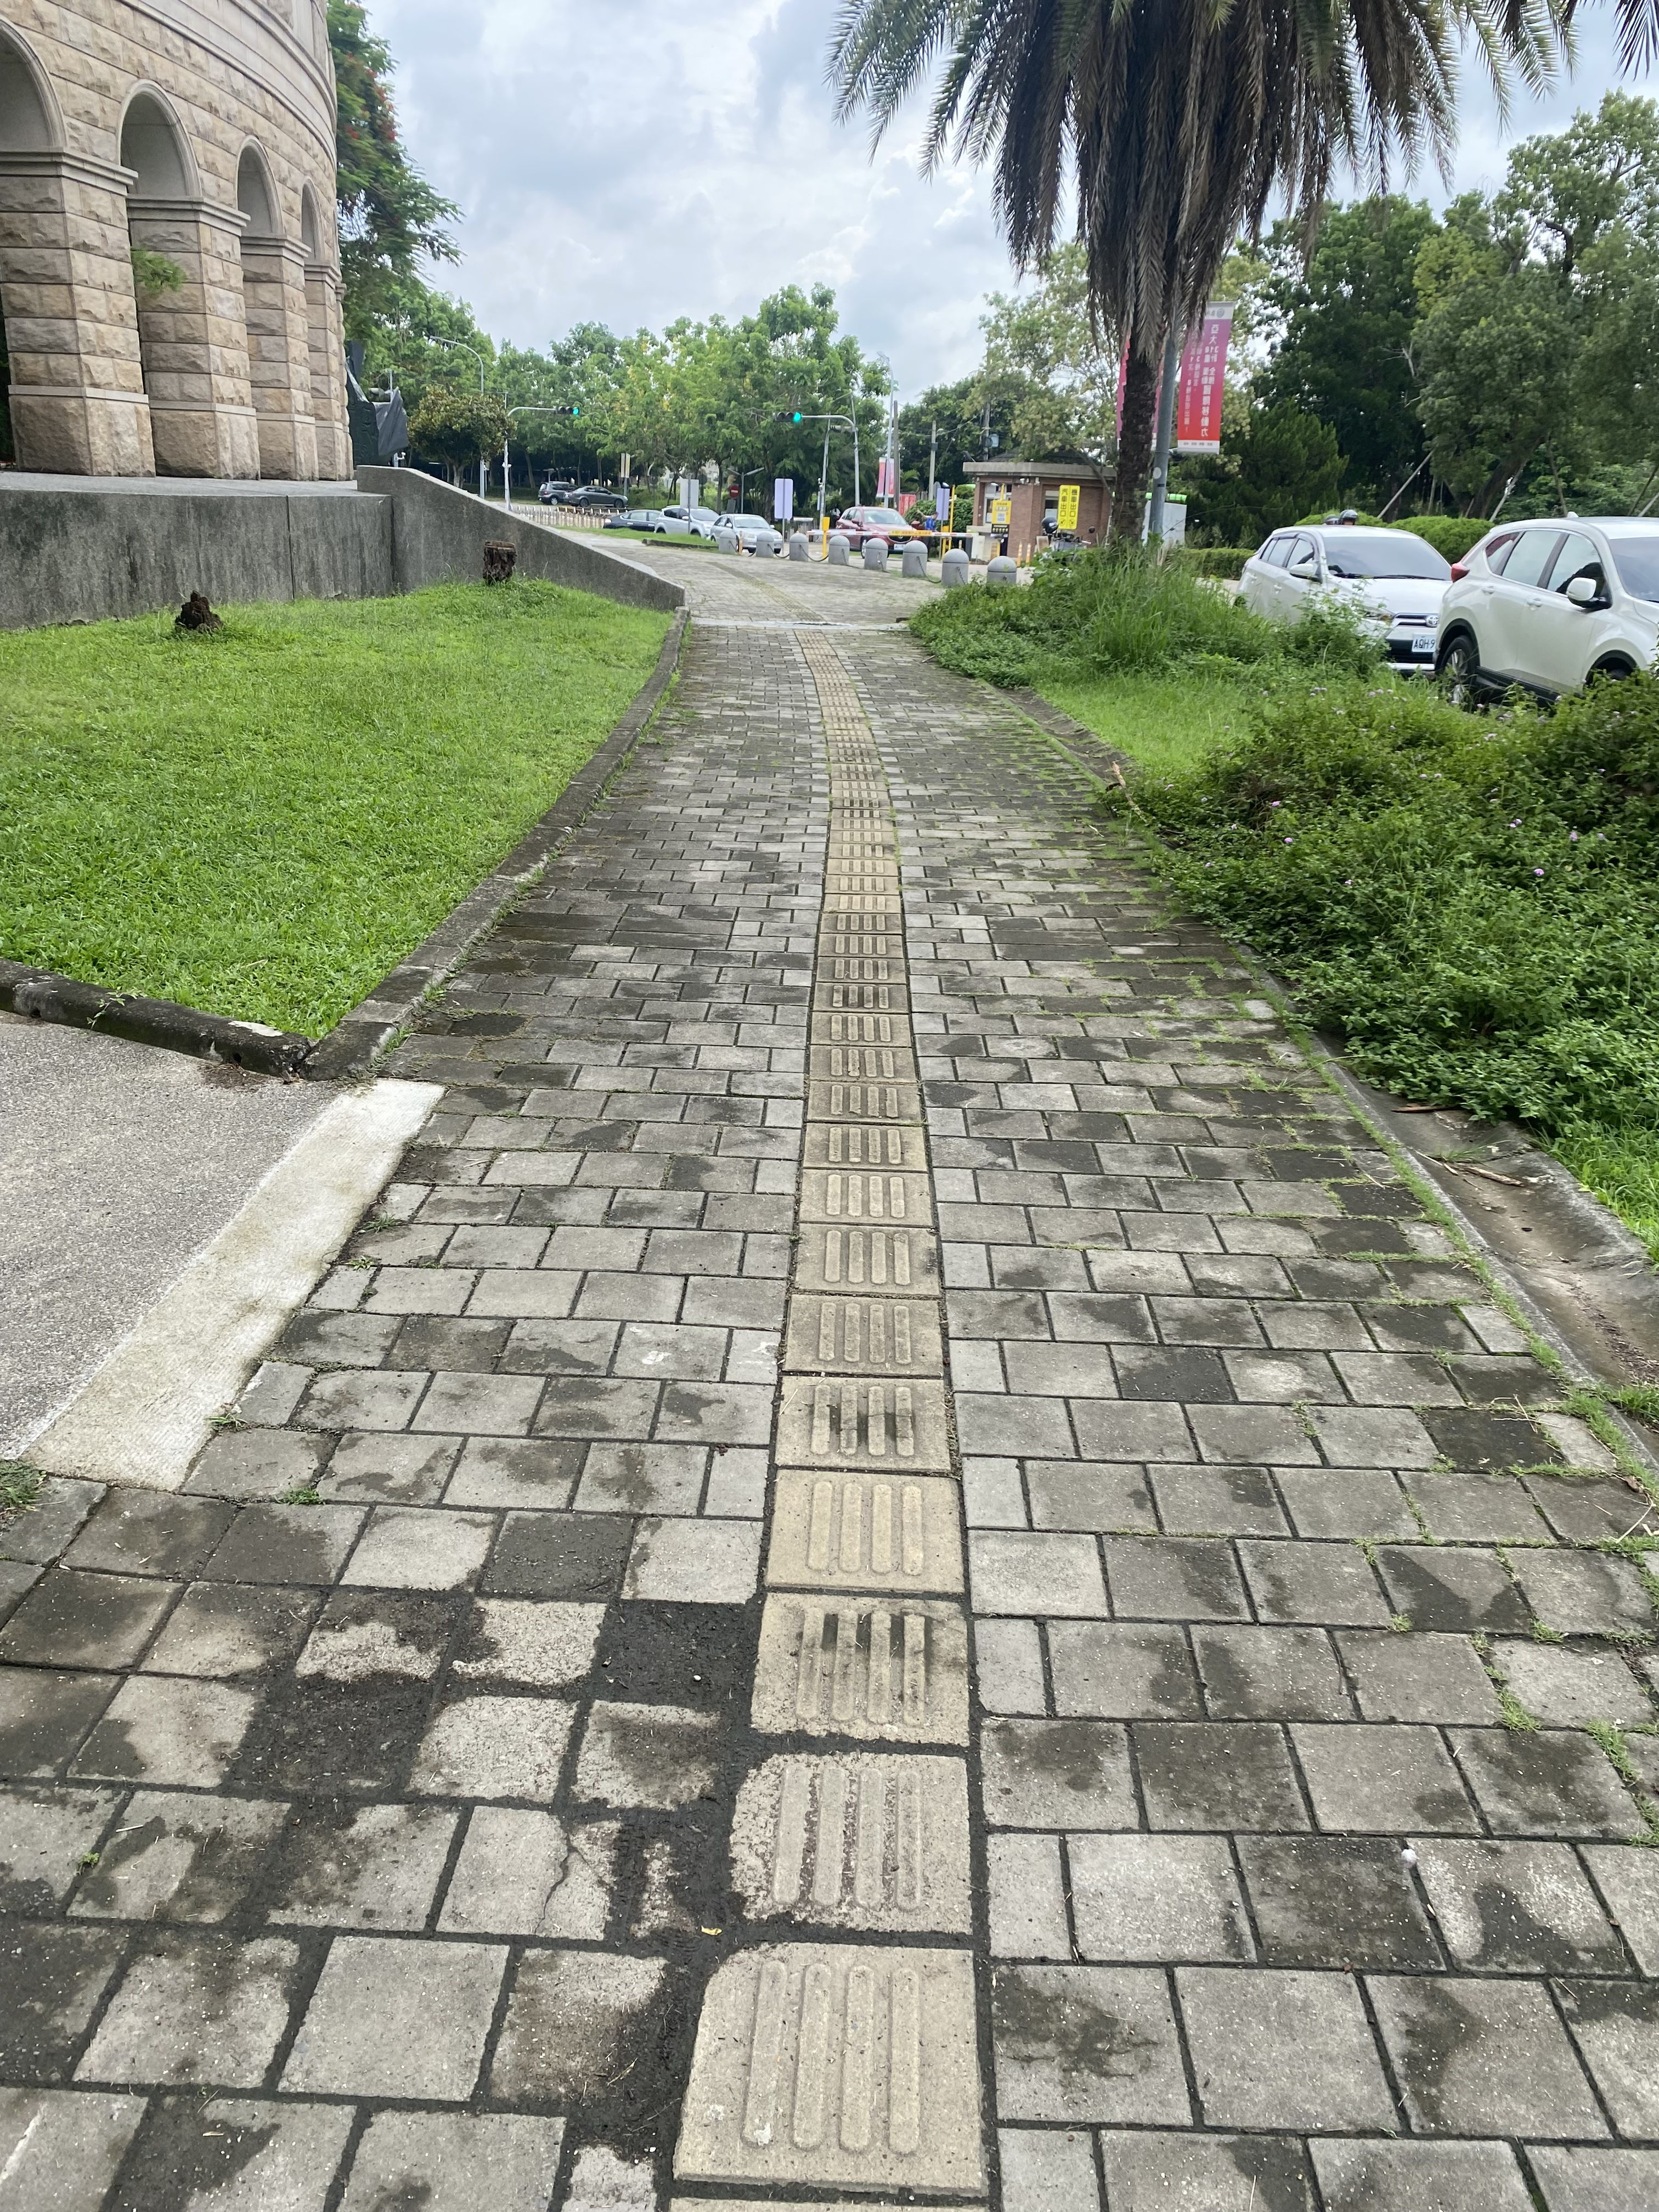0: (0, 846, 1654, 2205)
sidewalk: (575, 512, 1084, 1360)
